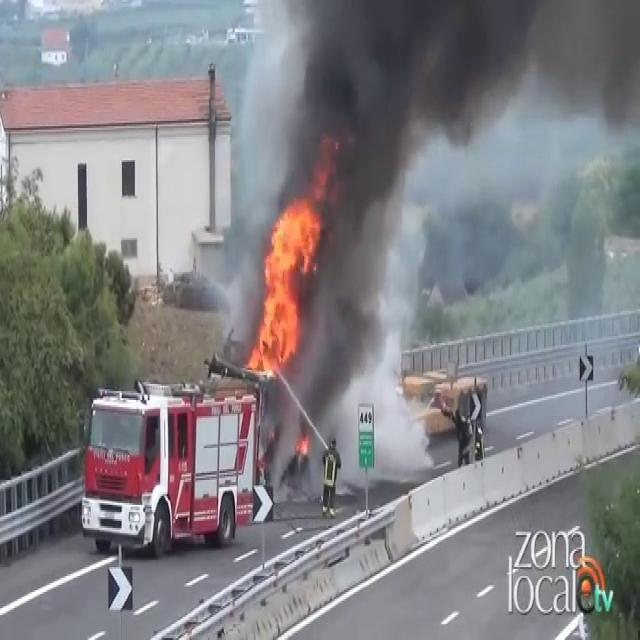Fire: (250, 188, 322, 376)
Smoke: (238, 0, 640, 396)
